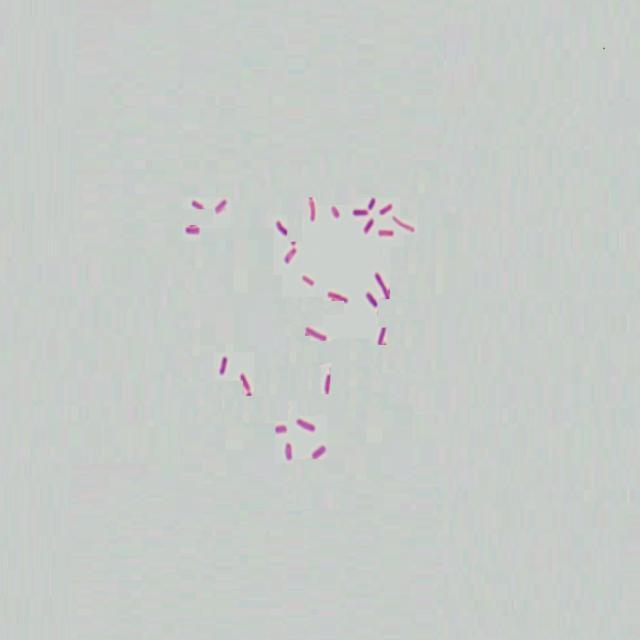E-coli: (320, 362, 336, 398), (239, 370, 257, 400), (304, 323, 328, 345), (376, 271, 394, 299), (216, 351, 232, 381), (213, 192, 233, 216), (328, 287, 352, 307), (311, 438, 329, 462), (376, 323, 390, 349), (306, 195, 318, 223), (274, 218, 290, 238), (397, 215, 417, 231), (285, 441, 298, 465), (299, 268, 314, 288), (273, 419, 289, 437), (298, 415, 316, 431), (185, 221, 203, 237), (283, 245, 297, 265), (365, 290, 377, 312), (380, 227, 396, 242), (365, 217, 377, 237), (190, 194, 204, 210), (363, 195, 377, 210), (380, 204, 395, 218), (333, 203, 343, 221), (352, 208, 368, 216)
